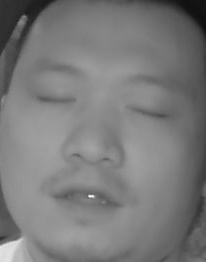blink: (123, 98, 169, 124), (38, 88, 77, 108)
mouth: (43, 176, 124, 221)
